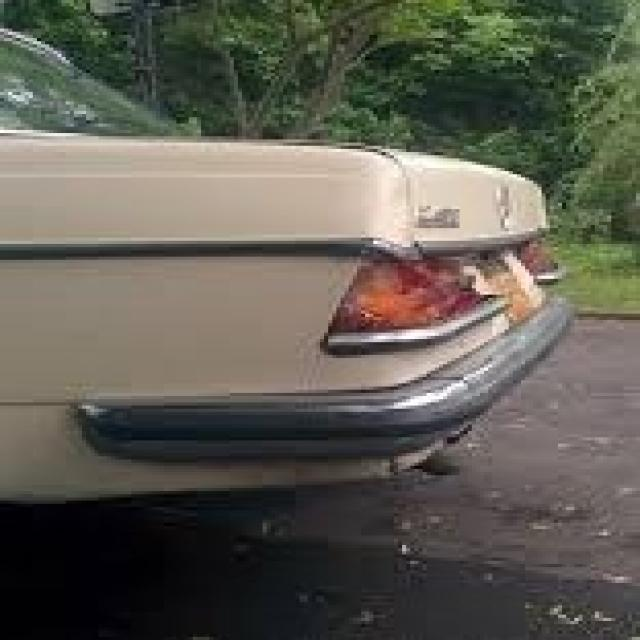minor: (308, 162, 544, 370)
